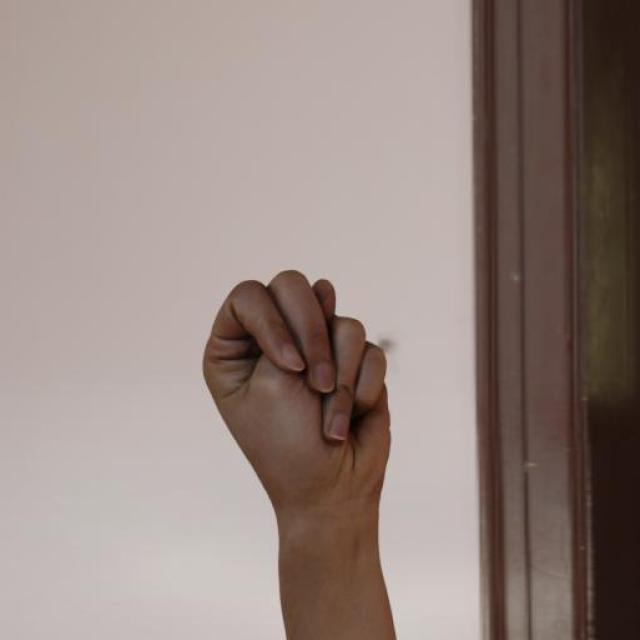N: (199, 267, 397, 518)
